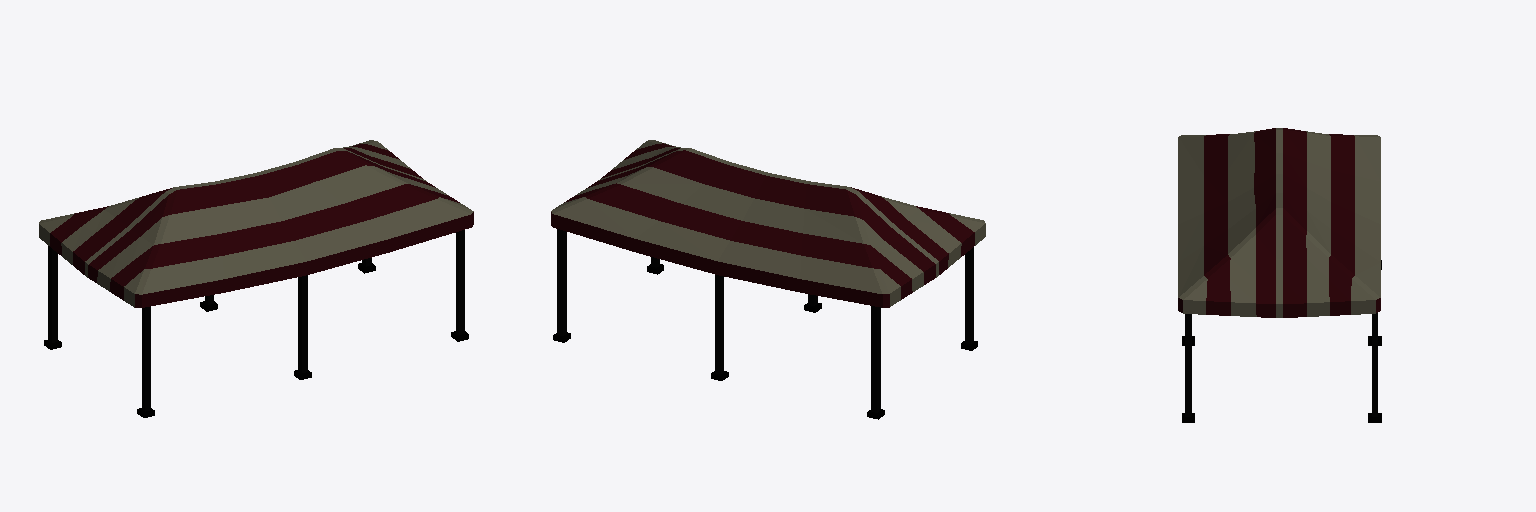
The model's file is SM_Canopy_02.obj.
The picture shows the model from 3 angles: view 1: azimuth 30°, elevation 25°; view 2: azimuth 150°, elevation 25°; view 3: azimuth 270°, elevation 25°; orthographic projection.
Parts seen in each view (by area): view 1: SM_Canopy:SM_Canopy1; view 2: SM_Canopy:SM_Canopy1; view 3: SM_Canopy:SM_Canopy1.
Boxes of the visible parts, box(x1,y1,x2,y2) form: SM_Canopy:SM_Canopy1: box(39, 140, 473, 417); SM_Canopy:SM_Canopy1: box(551, 140, 985, 419); SM_Canopy:SM_Canopy1: box(1178, 128, 1381, 422).
Size of the model in its own units: 9.7 by 4.77 by 5.03.